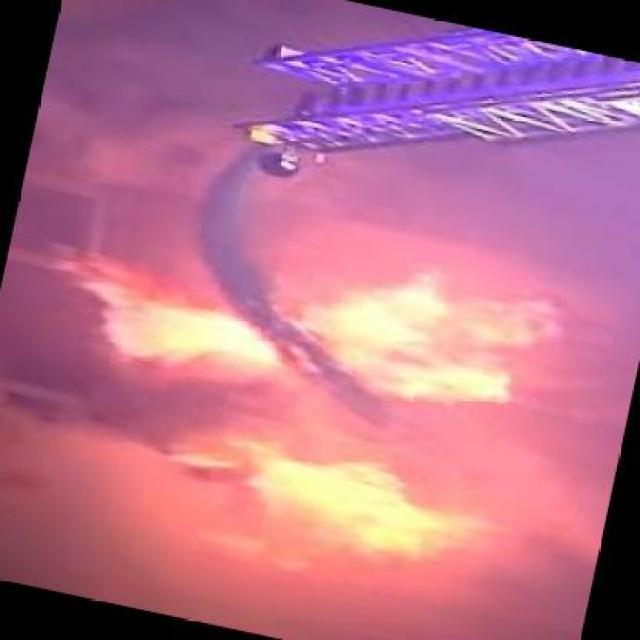Fire: (43, 231, 560, 411), (155, 430, 508, 560)
